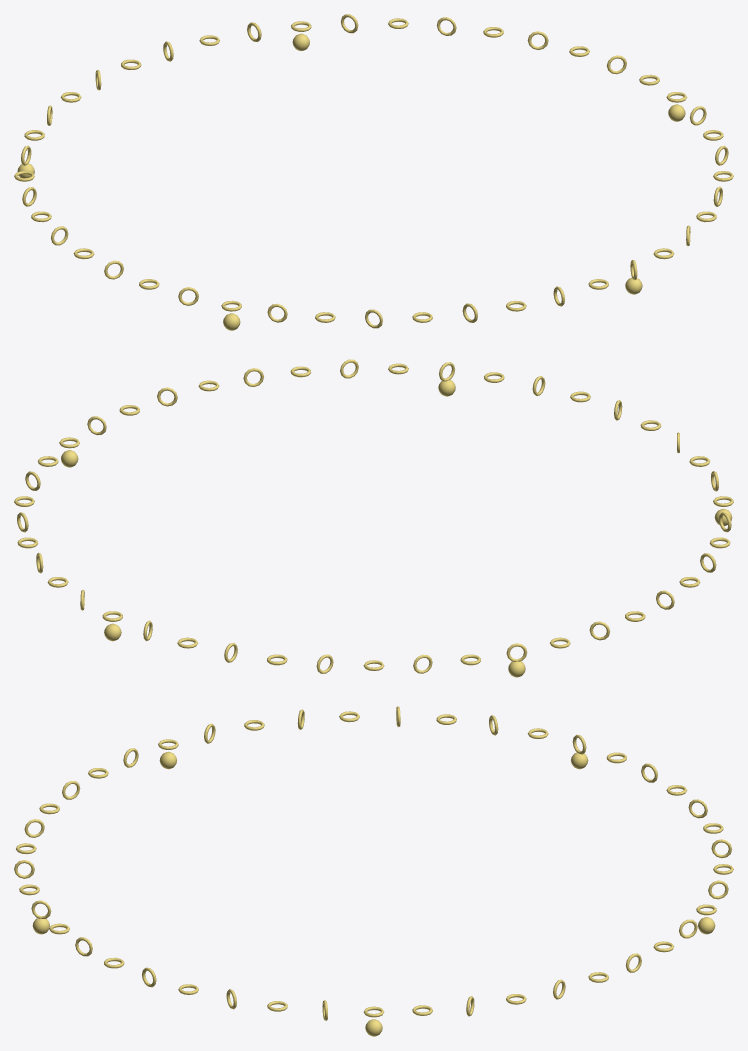
Rendered from anklet.glb.
3 views of the same model, one above another, from view 1: azimuth 30°, elevation 25°; view 2: azimuth 150°, elevation 25°; view 3: azimuth 270°, elevation 25° (orthographic).
Parts seen in each view (by area): view 1: anklet_chain_metal; view 2: anklet_chain_metal; view 3: anklet_chain_metal.
Boxes of the visible parts, bbox=[...] form: anklet_chain_metal: bbox=[14, 14, 733, 330]; anklet_chain_metal: bbox=[14, 359, 733, 677]; anklet_chain_metal: bbox=[14, 706, 733, 1036].
Bounding box in the file's own units: 2.88 × 0.147 × 2.88.
